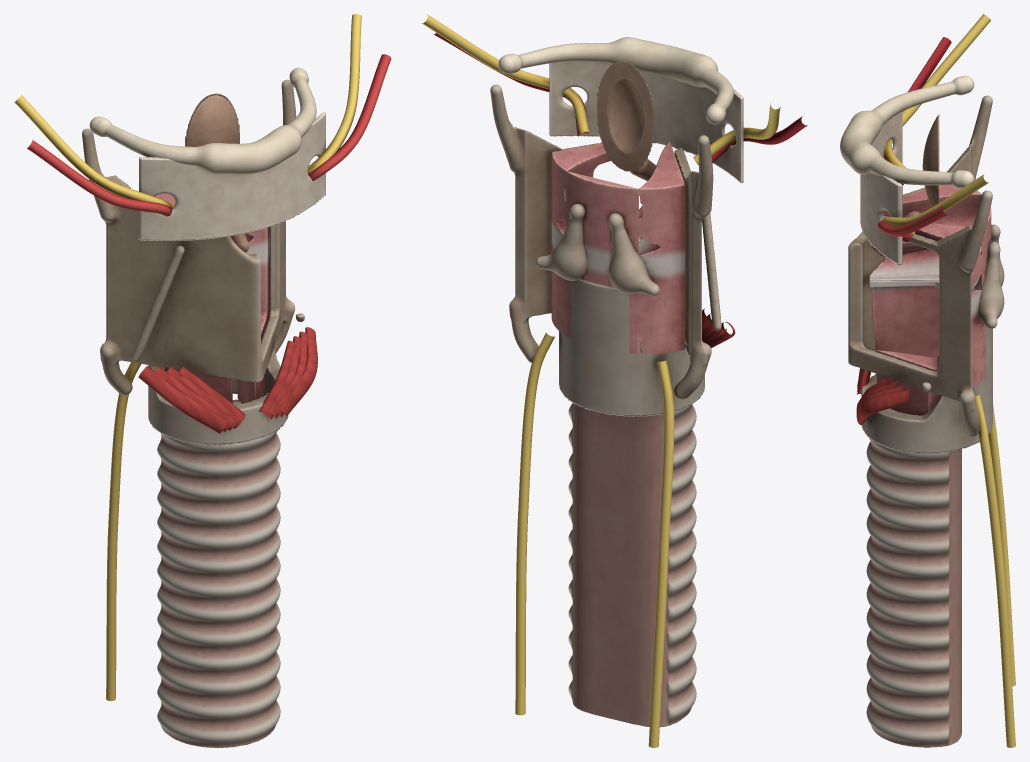
The model's file is larynx.762dcb46.glb.
The picture shows the model from 3 angles, left to right: view 1: azimuth 30°, elevation 25°; view 2: azimuth 150°, elevation 25°; view 3: azimuth 270°, elevation 25°; orthographic projection. The views are drawn at different scales.
Visible parts, largest first — view 1: Trachea, Thyroid cartilage, Thyrohyoid membrane, Laryngeal nerves, Cricothyroid muscles, Hyoid bone, Cricoid cartilage, Laryngeal arteries, Laryngeal folds and mucosa, Epiglottis; view 2: Trachea, Laryngeal folds and mucosa, Thyroid cartilage, Cricoid cartilage, Laryngeal nerves, Thyrohyoid membrane, Hyoid bone, Epiglottis, Arytenoid cartilages, Laryngeal arteries; view 3: Trachea, Thyroid cartilage, Laryngeal folds and mucosa, Laryngeal nerves, Cricoid cartilage, Hyoid bone, Thyrohyoid membrane, Arytenoid cartilages, Cricothyroid muscles, Laryngeal arteries, Epiglottis.
Boxes of the visible parts, x1,y1,x2,y2 form: Trachea: (157, 399, 280, 747); Thyroid cartilage: (82, 79, 304, 395); Thyrohyoid membrane: (139, 112, 325, 240); Laryngeal nerves: (14, 14, 361, 701); Cricothyroid muscles: (138, 327, 317, 433); Hyoid bone: (89, 67, 316, 174); Cricoid cartilage: (148, 348, 288, 444); Laryngeal arteries: (27, 54, 391, 216); Laryngeal folds and mucosa: (155, 193, 269, 403); Epiglottis: (185, 93, 249, 252); Trachea: (568, 403, 696, 727); Laryngeal folds and mucosa: (551, 141, 685, 353); Thyroid cartilage: (490, 84, 721, 399); Cricoid cartilage: (559, 279, 704, 416); Laryngeal nerves: (421, 14, 780, 747); Thyrohyoid membrane: (549, 61, 743, 183); Hyoid bone: (498, 37, 733, 124); Epiglottis: (597, 61, 656, 181); Arytenoid cartilages: (536, 203, 659, 295); Laryngeal arteries: (434, 33, 807, 162); Trachea: (866, 438, 961, 747); Thyroid cartilage: (848, 95, 992, 437); Laryngeal folds and mucosa: (869, 185, 991, 415); Laryngeal nerves: (882, 14, 1015, 747); Cricoid cartilage: (861, 326, 992, 453); Hyoid bone: (840, 75, 974, 188); Thyrohyoid membrane: (860, 111, 902, 265); Arytenoid cartilages: (973, 224, 1004, 328); Cricothyroid muscles: (856, 368, 910, 424); Laryngeal arteries: (877, 37, 951, 242); Epiglottis: (903, 114, 939, 217).
Size of the model in its own units: 2.04 by 3.47 by 0.8775.
